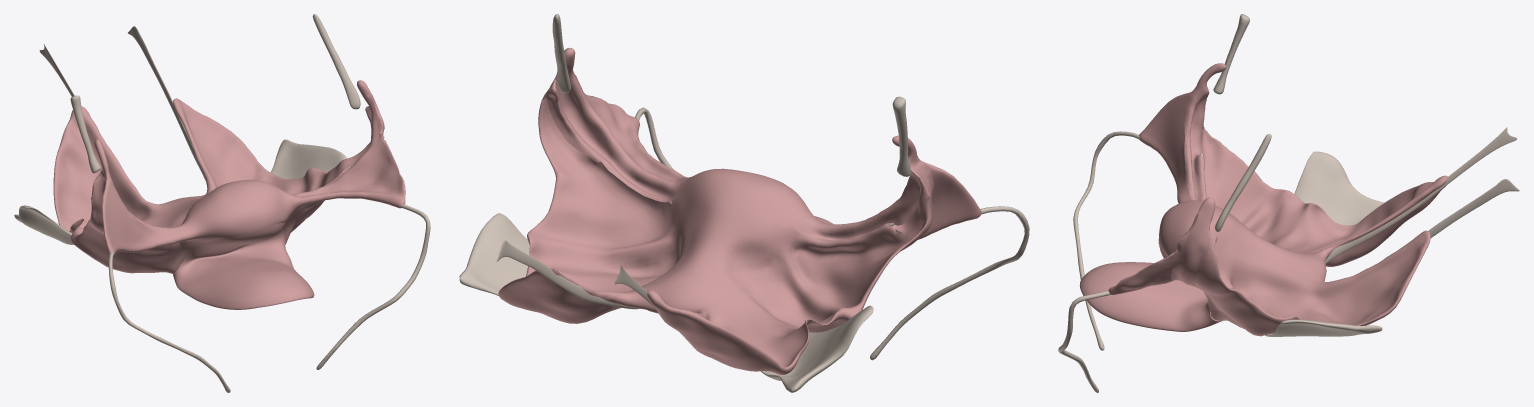
The model's file is VH_F_Ligaments_Uterus_Ovaries.fbx.
3 views of the same model, side by side, from view 1: azimuth 30°, elevation 25°; view 2: azimuth 150°, elevation 25°; view 3: azimuth 270°, elevation 25° (orthographic). The views are drawn at different scales.
Parts seen in each view (by area): view 1: VH_F_broad_ligament, VH_F_uterovesical_pouch, VH_F_left_cardinal_ligament_of_uterus, VH_F_mesosalpinx_L, VH_F_right_round_ligament_of_uterus, VH_F_mesosalpinx_R, VH_F_right_cardinal_ligament_of_uterus, VH_F_left_round_ligament_of_uterus, VH_F_suspensory_ligament_of_ovary_L, VH_F_left_uterosacral_ligament, VH_F_suspensory_ligament_of_ovary_R; view 2: VH_F_broad_ligament, VH_F_mesosalpinx_L, VH_F_left_cardinal_ligament_of_uterus, VH_F_mesosalpinx_R, VH_F_right_cardinal_ligament_of_uterus, VH_F_left_round_ligament_of_uterus, VH_F_left_uterosacral_ligament, VH_F_mesovarium_L, VH_F_suspensory_ligament_of_ovary_R, VH_F_suspensory_ligament_of_ovary_L, VH_F_mesovarium_R; view 3: VH_F_broad_ligament, VH_F_uterovesical_pouch, VH_F_right_cardinal_ligament_of_uterus, VH_F_mesosalpinx_L, VH_F_mesosalpinx_R, VH_F_left_cardinal_ligament_of_uterus, VH_F_right_uterosacral_ligament, VH_F_left_round_ligament_of_uterus, VH_F_left_uterosacral_ligament, VH_F_suspensory_ligament_of_ovary_L, VH_F_right_round_ligament_of_uterus, VH_F_suspensory_ligament_of_ovary_R.
Part boxes in pixels (x1,y1,x2,y2): VH_F_broad_ligament: (53,94,405,273); VH_F_uterovesical_pouch: (173,222,314,309); VH_F_left_cardinal_ligament_of_uterus: (270,139,346,179); VH_F_mesosalpinx_L: (288,80,383,220); VH_F_right_round_ligament_of_uterus: (316,204,430,369); VH_F_mesosalpinx_R: (91,139,189,241); VH_F_right_cardinal_ligament_of_uterus: (14,205,73,244); VH_F_left_round_ligament_of_uterus: (108,252,230,392); VH_F_suspensory_ligament_of_ovary_L: (312,14,360,109); VH_F_left_uterosacral_ligament: (128,26,205,180); VH_F_suspensory_ligament_of_ovary_R: (70,95,100,173); VH_F_broad_ligament: (498,75,981,374); VH_F_mesosalpinx_L: (554,48,681,202); VH_F_left_cardinal_ligament_of_uterus: (459,213,529,295); VH_F_mesosalpinx_R: (793,135,933,240); VH_F_right_cardinal_ligament_of_uterus: (761,305,873,392); VH_F_left_round_ligament_of_uterus: (870,206,1029,360); VH_F_left_uterosacral_ligament: (496,240,639,309); VH_F_mesovarium_L: (546,79,604,162); VH_F_suspensory_ligament_of_ovary_R: (892,96,910,176); VH_F_suspensory_ligament_of_ovary_L: (552,14,570,93); VH_F_mesovarium_R: (896,177,928,232); VH_F_broad_ligament: (1108,92,1447,336); VH_F_uterovesical_pouch: (1079,239,1222,331); VH_F_right_cardinal_ligament_of_uterus: (1294,151,1384,225); VH_F_mesosalpinx_L: (1170,197,1215,287); VH_F_mesosalpinx_R: (1184,63,1226,200); VH_F_left_cardinal_ligament_of_uterus: (1265,319,1382,336); VH_F_right_uterosacral_ligament: (1325,127,1516,263); VH_F_left_round_ligament_of_uterus: (1073,131,1139,350); VH_F_left_uterosacral_ligament: (1428,179,1519,237); VH_F_suspensory_ligament_of_ovary_L: (1215,134,1271,232); VH_F_right_round_ligament_of_uterus: (1058,290,1110,392); VH_F_suspensory_ligament_of_ovary_R: (1213,14,1249,94).
Size of the model in its own units: 14.71 by 12.34 by 17.06.
